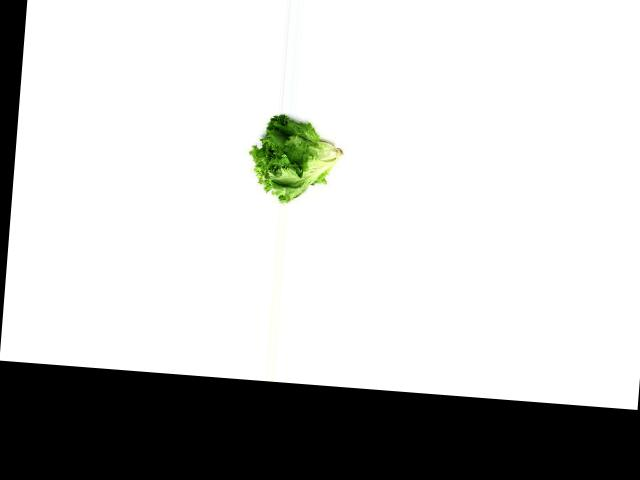lettuce: (248, 111, 346, 209)
